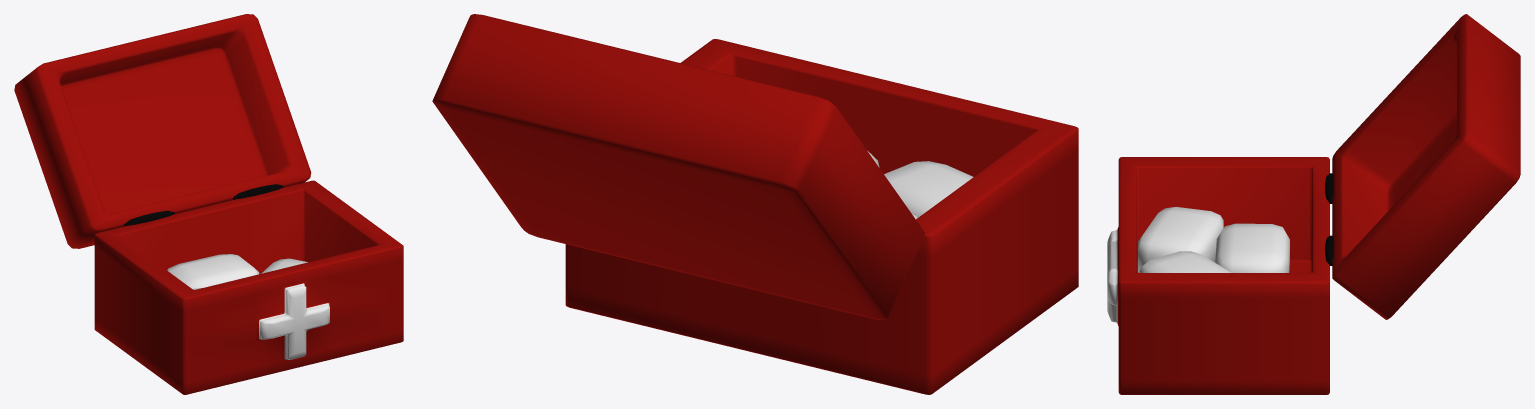
The model's file is FirstAidKit2.fbx.
3 renders of one model, left to right at view 1: azimuth 30°, elevation 25°; view 2: azimuth 150°, elevation 25°; view 3: azimuth 270°, elevation 25°, orthographic. The views are drawn at different scales.
Parts seen in each view (by area): view 1: Base, Lid, Bandage, Hinge, Hinge.001; view 2: Lid, Base, Bandage.001; view 3: Base, Lid, Bandage.001, Bandage, Bandage.002.
Part boxes in pixels (box(x1,y1,x2,y2)): Base: box(94, 180, 403, 394); Lid: box(14, 14, 311, 248); Bandage: box(167, 254, 259, 288); Hinge: box(124, 210, 174, 226); Hinge.001: box(233, 184, 283, 199); Lid: box(432, 14, 925, 320); Base: box(565, 39, 1078, 394); Bandage.001: box(884, 161, 973, 217); Base: box(1107, 157, 1329, 394); Lid: box(1332, 14, 1520, 319); Bandage.001: box(1138, 207, 1223, 272); Bandage: box(1215, 223, 1289, 272); Bandage.002: box(1139, 251, 1231, 272).
Size of the model in its own units: 173 by 165 by 239.
